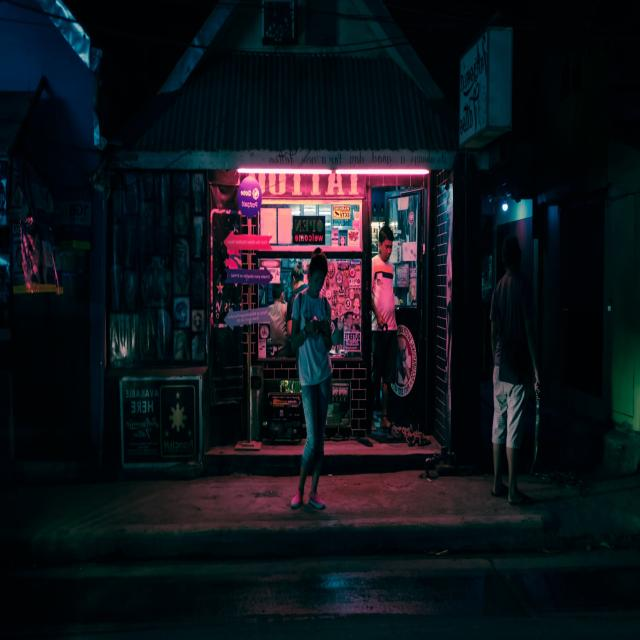adult: (490, 234, 543, 501), (288, 250, 336, 513), (366, 227, 396, 430)
